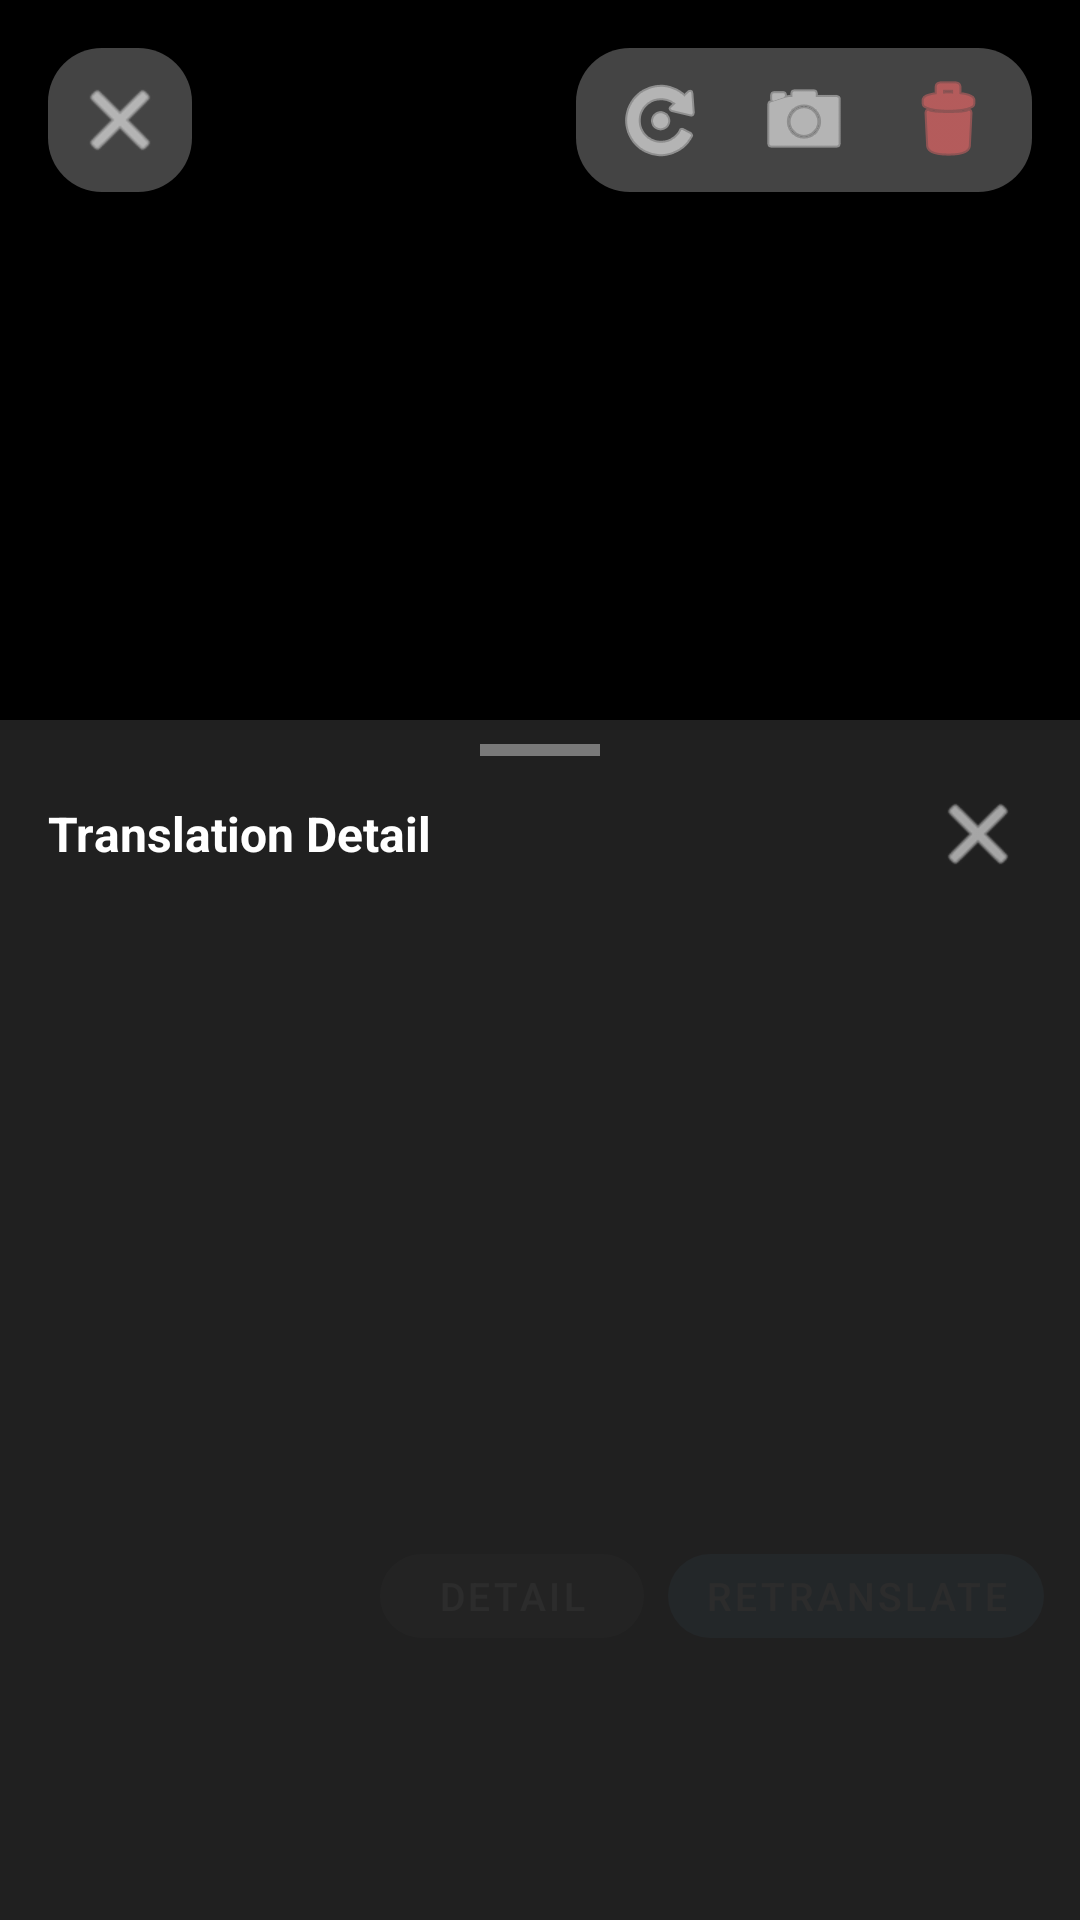

Where icons sit on this 1080 x 1920 app screen, as BBox(x1, y1, x2, y2):
close clear cancel: BBox(48, 48, 192, 192), BBox(948, 804, 1008, 864)
Delete: BBox(876, 48, 1020, 192)
旋转视图: BBox(588, 48, 732, 192)
